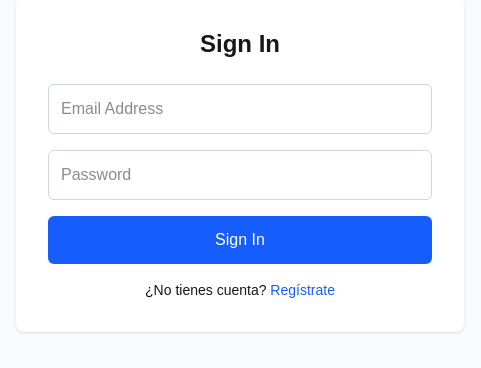
Test: Authentication Flow › should show error for invalid credentials
Type "wrong@test.com" into the field with test id "email-input".
click(240, 109); type("wrong@test.com")  # box [48,84,432,134]
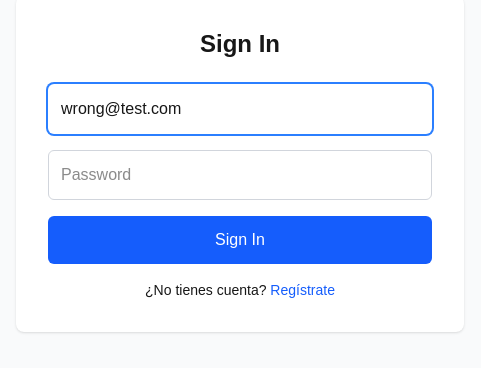
Type "wrongpass" into the password field with test id "password-input".
click(240, 175); type("wrongpass")  # box [48,150,432,200]
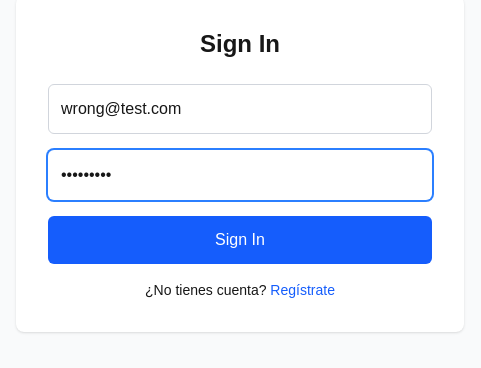
Click the button with test id "login-submit".
click(240, 240)  # box [48,216,432,264]
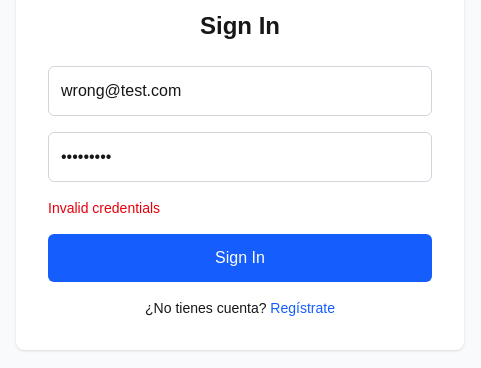
Check: the text with test id "auth-error" reads "Invalid credentials", box [48,200,160,216]
